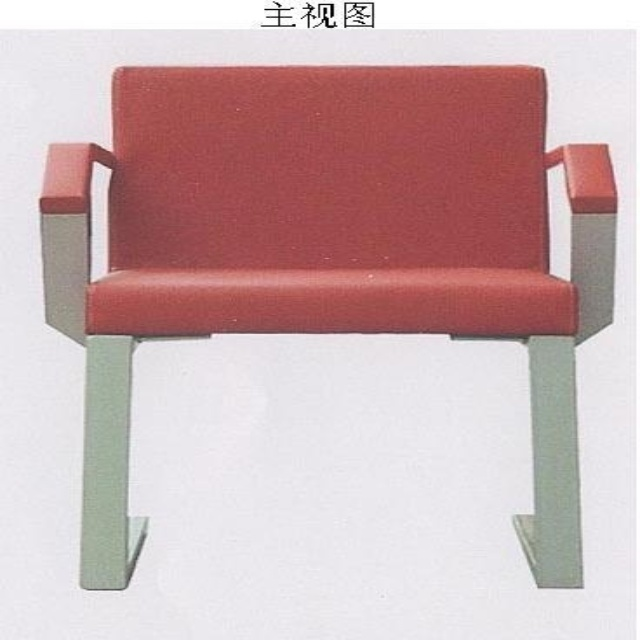obstacle: (40, 66, 614, 588)
